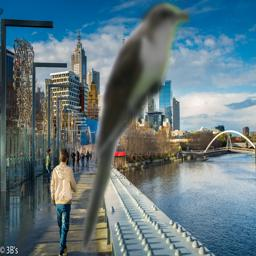Cuckoo: (77, 0, 190, 256)
